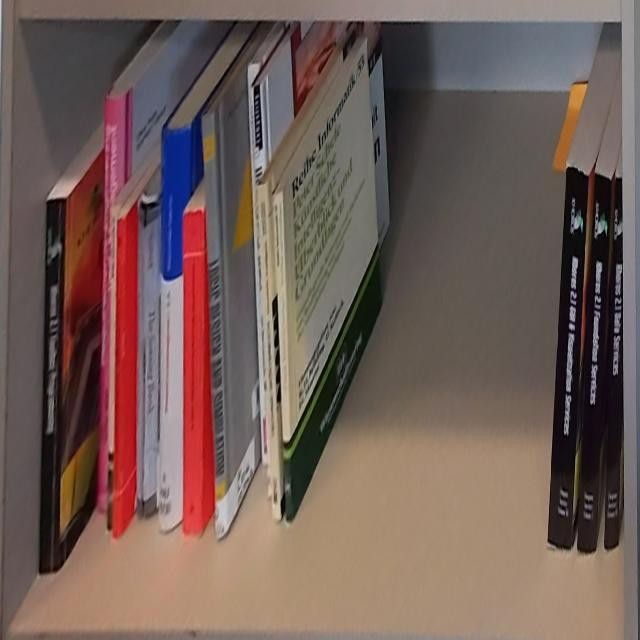Book Spine: (547, 163, 590, 551), (158, 125, 191, 530), (577, 169, 611, 552), (96, 94, 126, 510), (202, 109, 230, 538), (39, 198, 69, 573), (258, 183, 281, 521), (605, 175, 624, 548), (182, 211, 203, 534), (274, 192, 293, 519), (145, 205, 160, 514), (112, 215, 126, 538), (106, 209, 118, 535), (136, 200, 146, 518)
